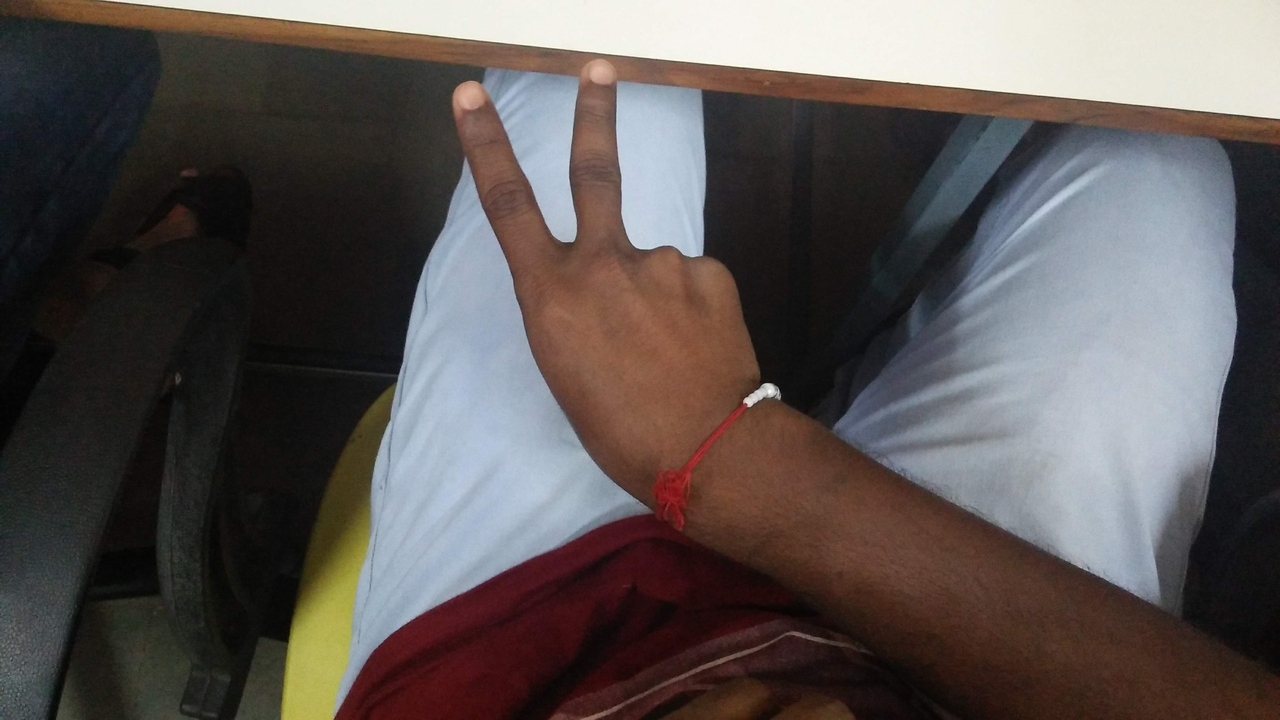fingertip: (438, 72, 502, 126), (574, 54, 618, 96)
